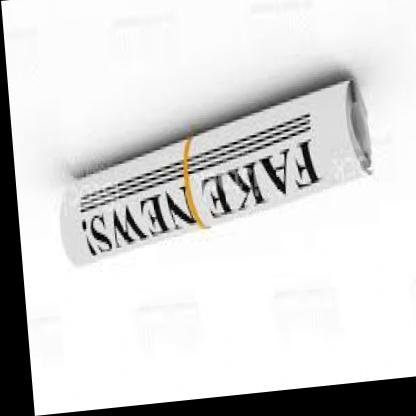Paper: (5, 43, 402, 297)
